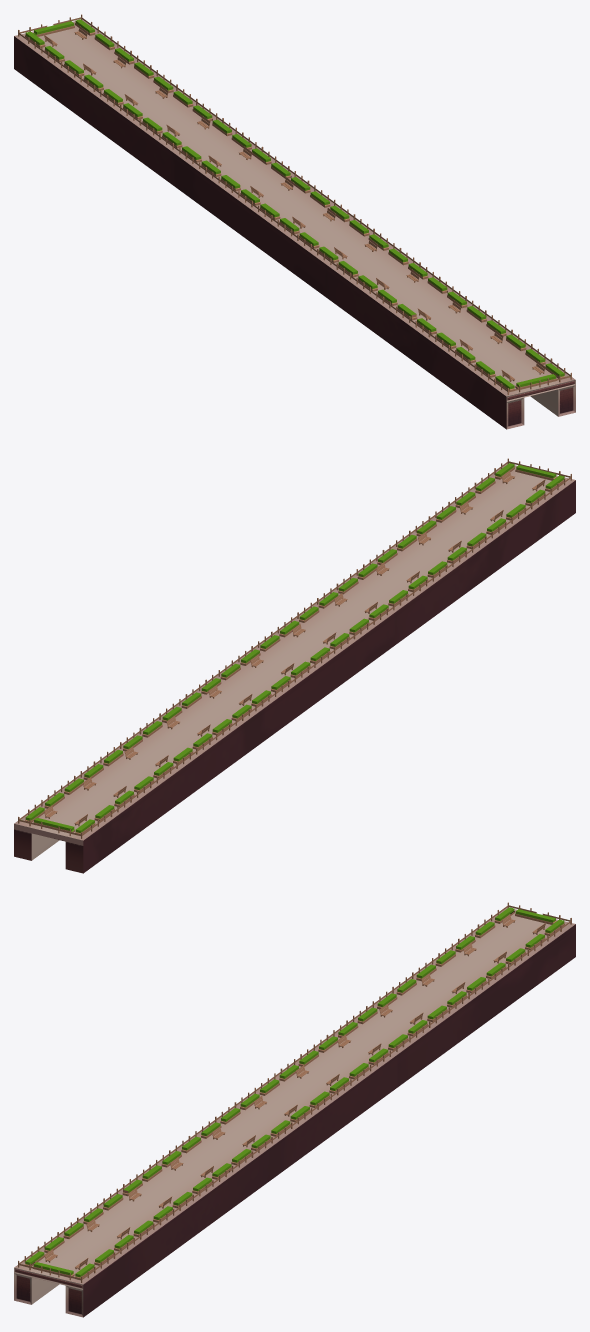
The model's file is arch.FBX.
The picture shows the model from 3 angles, top to bottom: view 1: azimuth 30°, elevation 25°; view 2: azimuth 150°, elevation 25°; view 3: azimuth 330°, elevation 25°; orthographic projection.
Visible parts, largest first — view 1: Box101; view 2: Box101; view 3: Box101.
Boxes of the visible parts, bbox=[...] form: Box101: bbox=[14, 14, 575, 429]; Box101: bbox=[14, 458, 575, 873]; Box101: bbox=[14, 902, 575, 1317].
Bounding box in the file's own units: 58.56 × 32.01 × 717.
